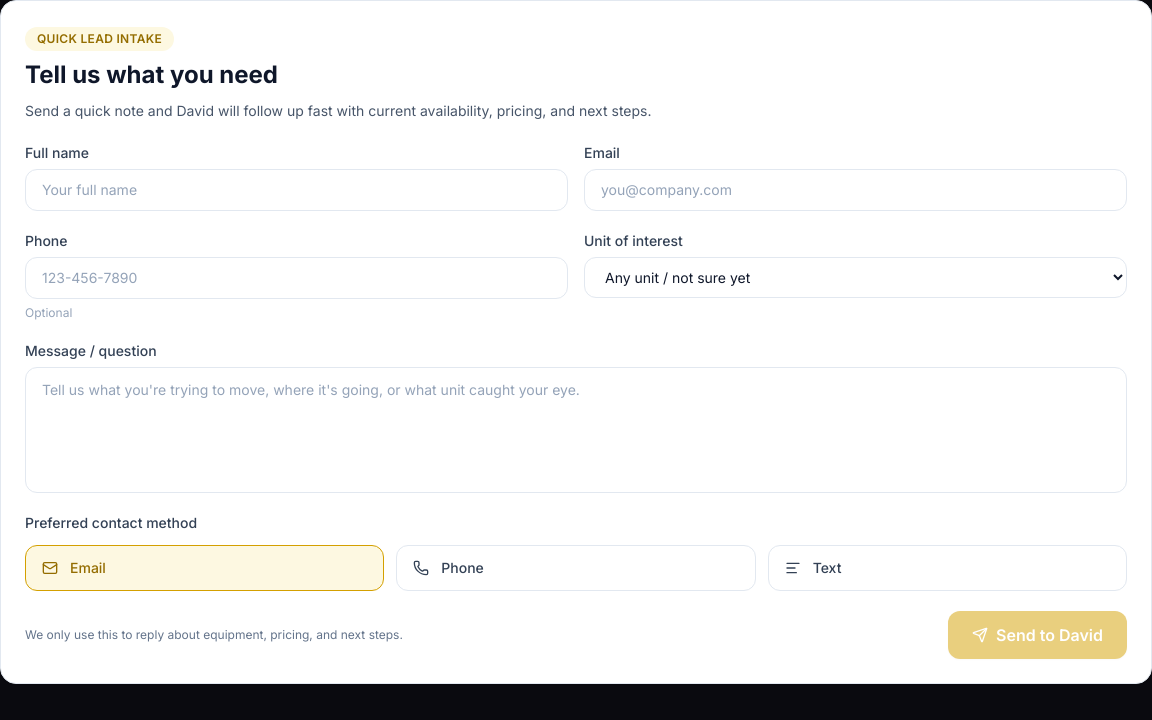
Test case: submitting valid input posts to /api/leads and shows the success state
Type "Chris Vortex" into the field with placeholder "Your full name" at [296, 190], box [25,169,568,211]
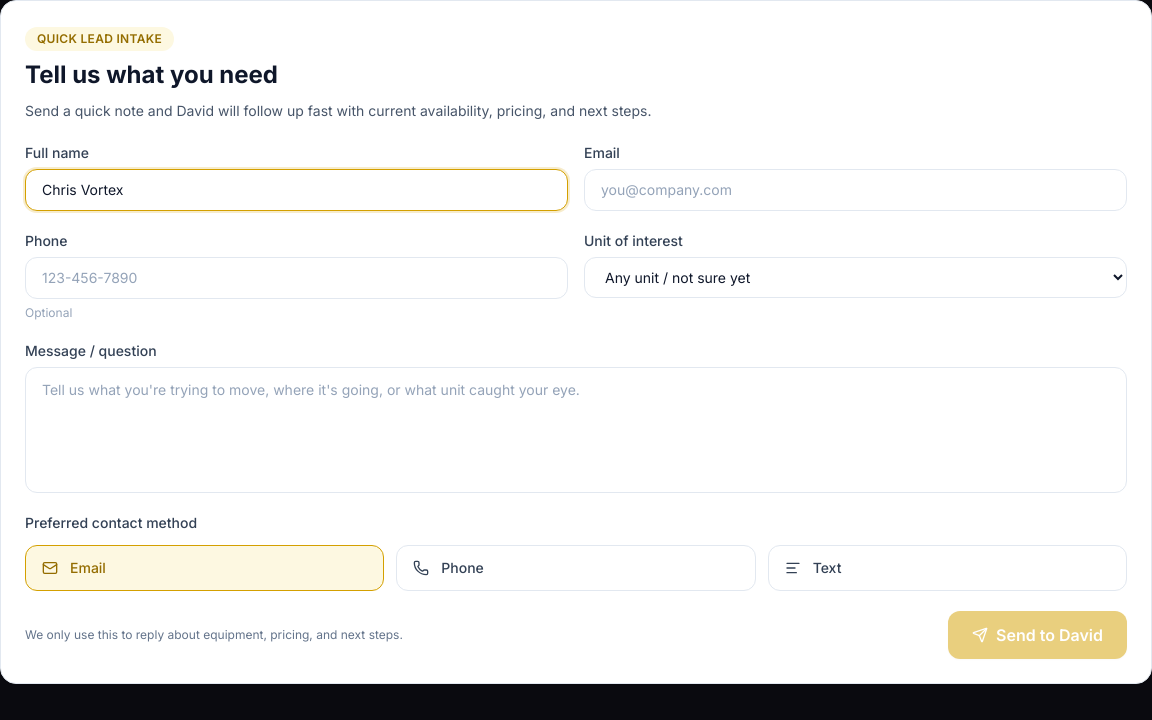
Type "chris@example.com" into the field with placeholder "you@company.com" at [856, 190], box [584,169,1127,211]
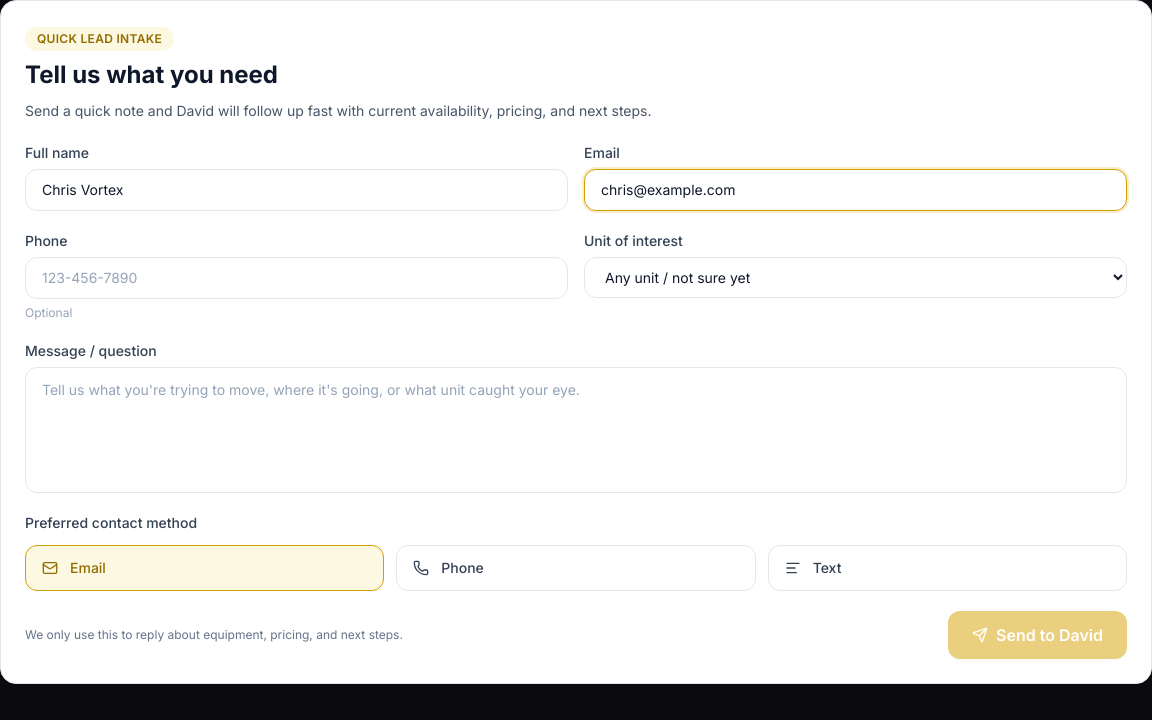
Type "Looking for a reach truck that can ship this week." into the text box labelled "Message / question" at [576, 430], box [25,367,1127,493]
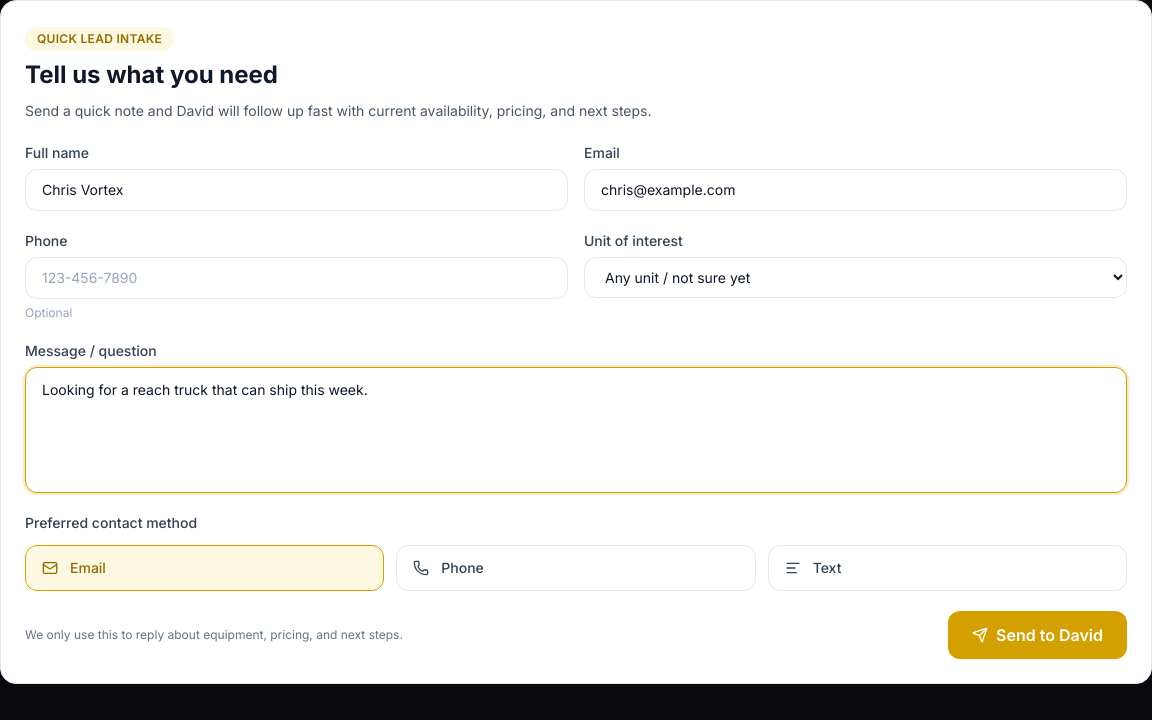
Select "2018 Raymond 752-R45TT Reach Truck" in the dropdown labelled "Unit of interest" at [856, 278], box [584,257,1127,298]
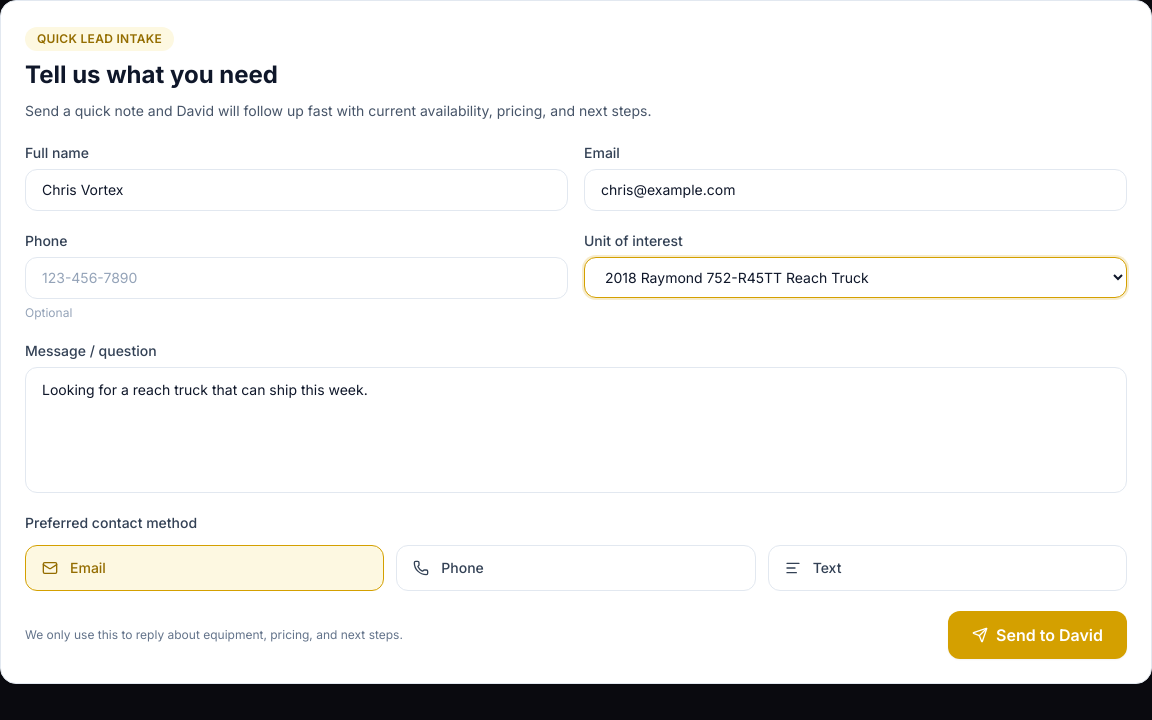
Click the button "Send to David" at [1038, 635], box [948,611,1127,659]
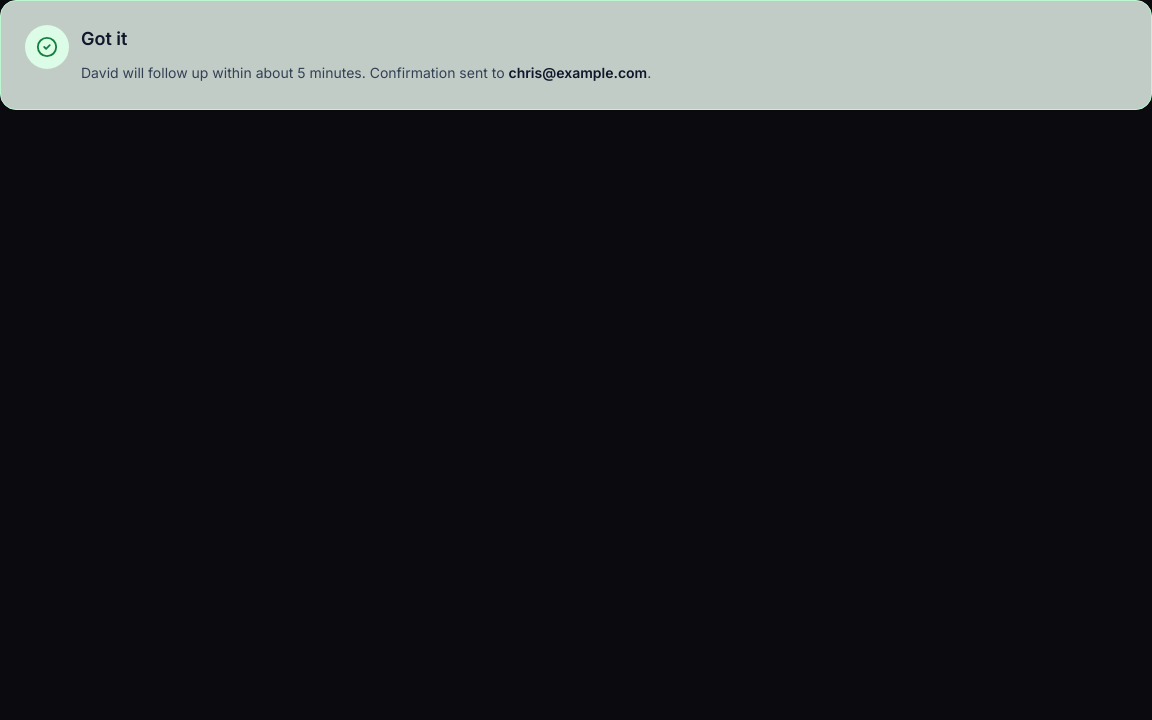
Result: the text "David will follow up within about 5 minutes" is shown at [81,64,504,81]
